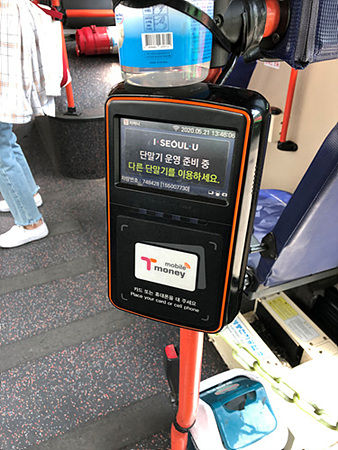terminal: (110, 81, 241, 323)
